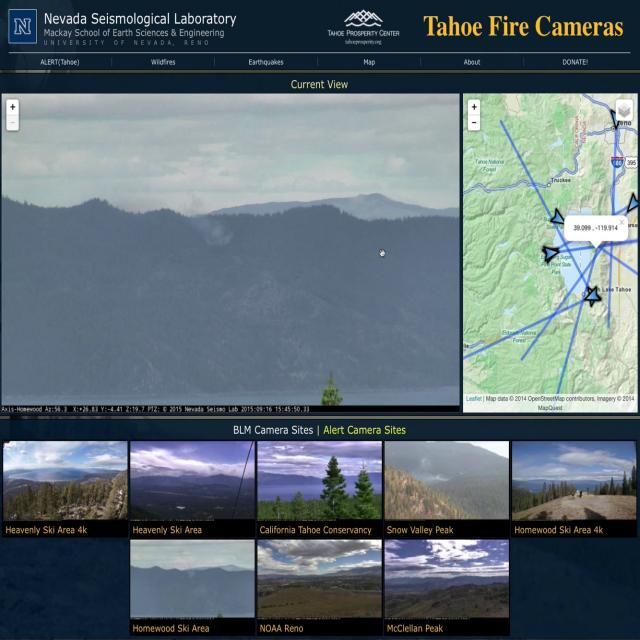smoke: (172, 188, 241, 248)
